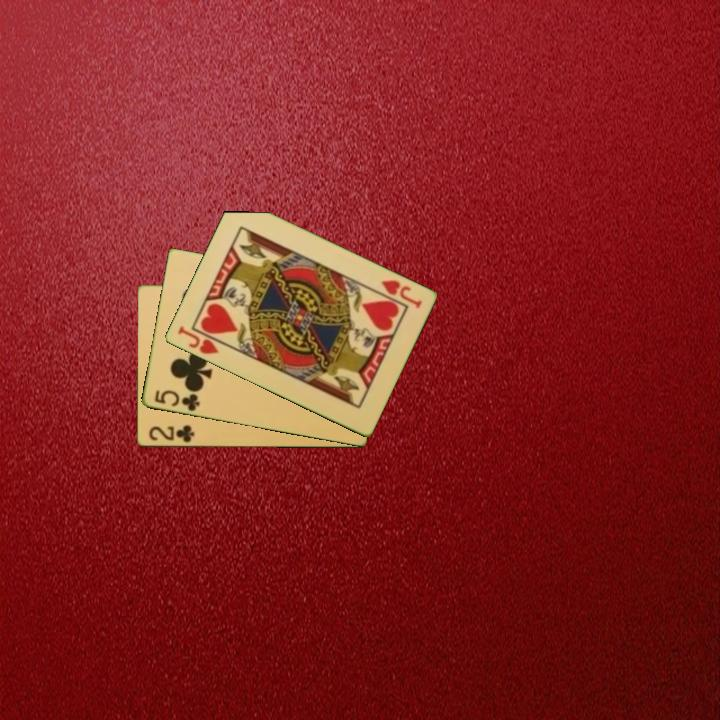2c: (145, 421, 197, 445)
5c: (151, 387, 202, 414)
Jh: (174, 322, 229, 357), (377, 276, 424, 311)
